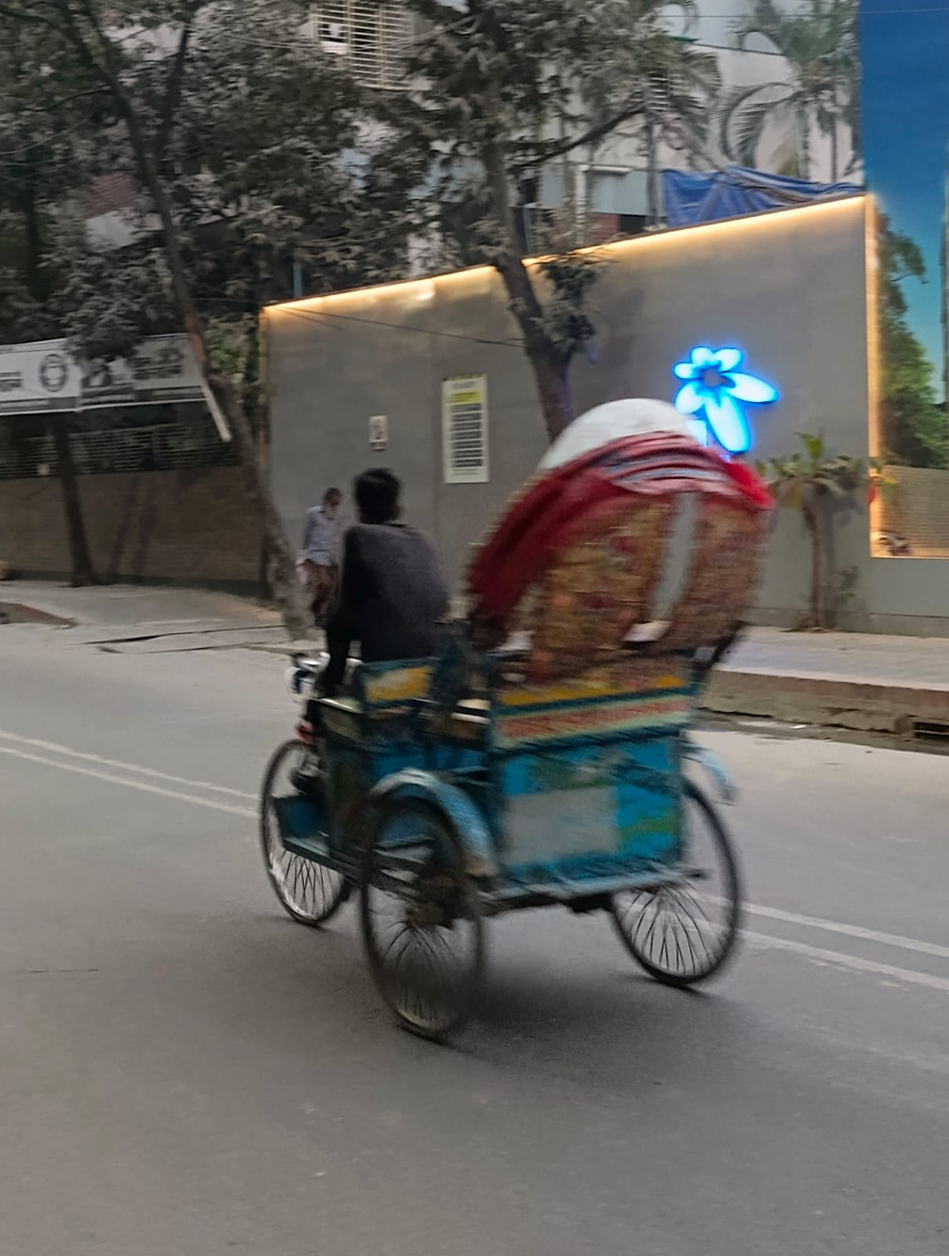auto-ricksaw: (239, 398, 799, 1044)
